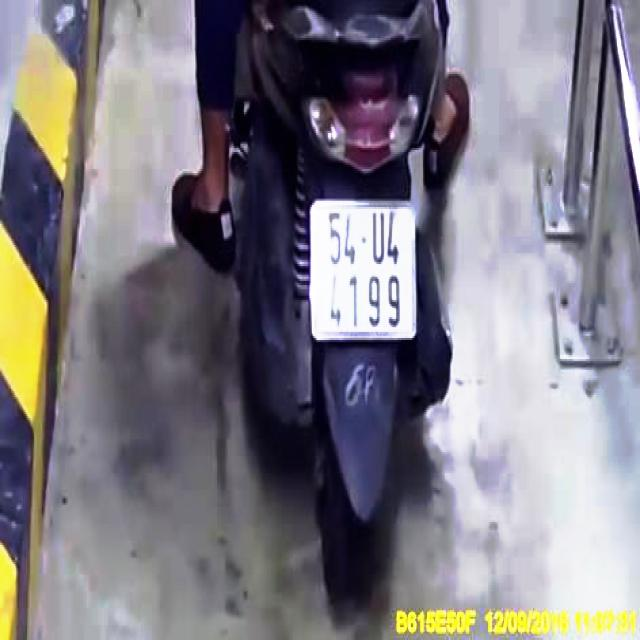license_plate: (312, 203, 415, 335)
